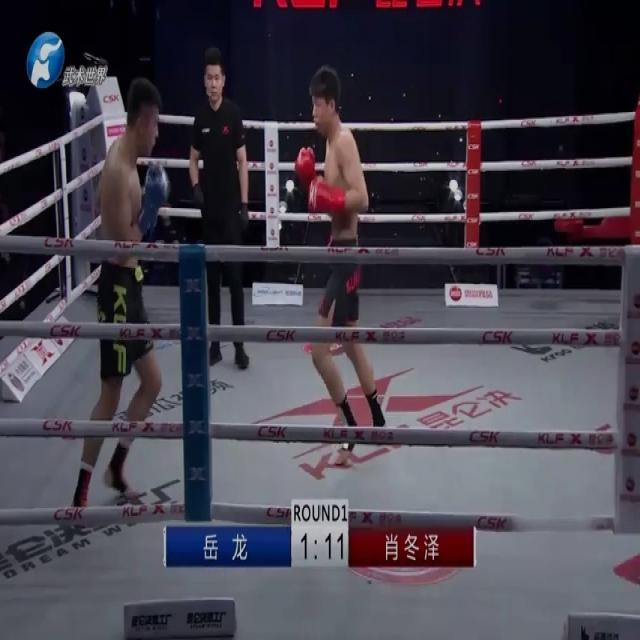fight: (70, 45, 390, 515)
non-fight: (187, 44, 256, 372)
